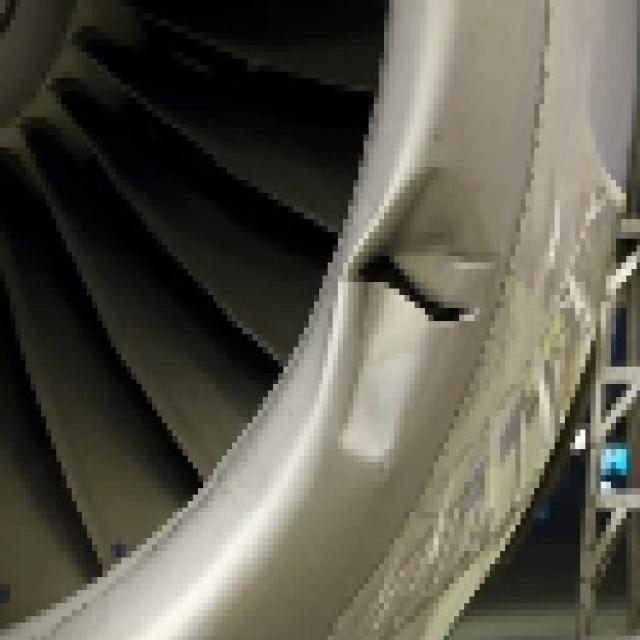crack: (342, 255, 484, 333)
